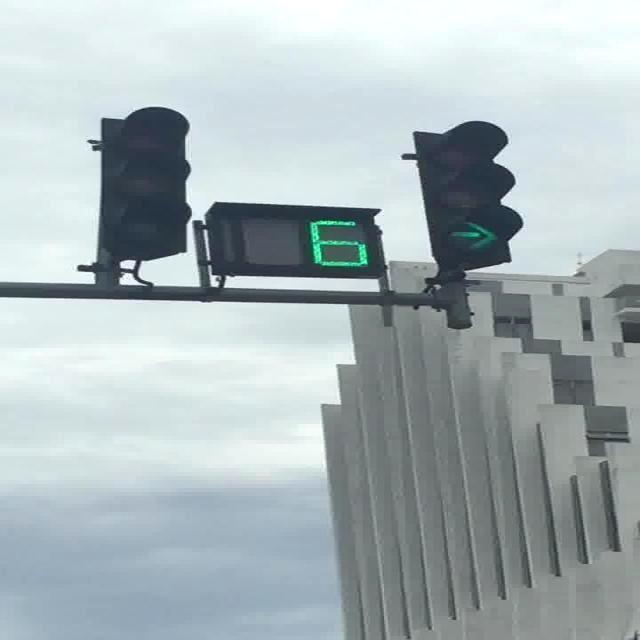Green: (410, 120, 524, 268)
